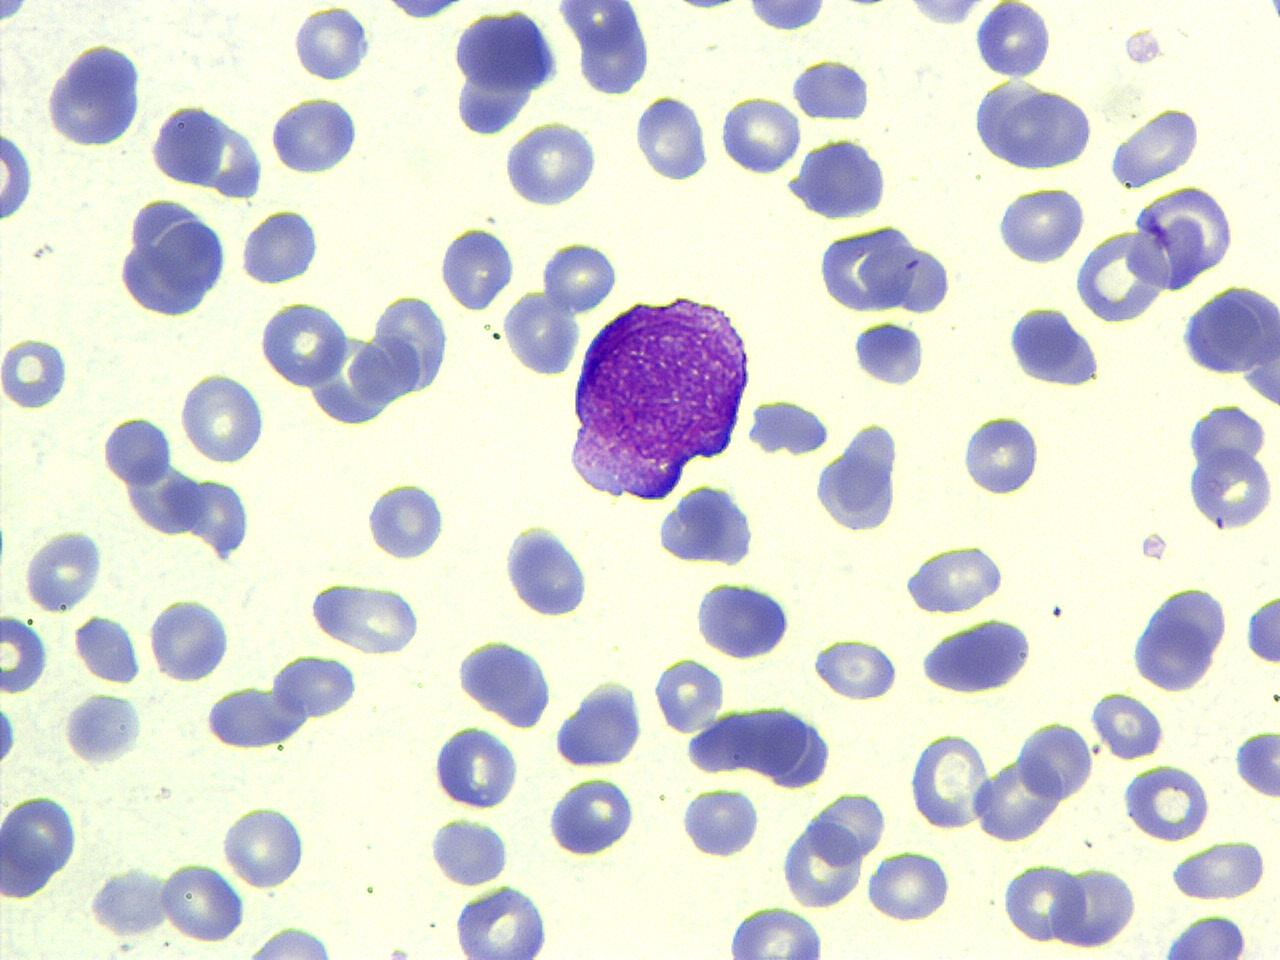Platelets: (20, 524, 109, 612), (958, 412, 1043, 498), (365, 480, 448, 562), (290, 5, 374, 84), (63, 690, 144, 768), (974, 3, 1054, 80), (428, 814, 512, 887), (0, 334, 74, 412), (71, 614, 145, 686), (850, 320, 926, 390), (744, 396, 830, 457), (1242, 588, 1280, 674), (1234, 726, 1278, 800), (0, 703, 18, 769), (385, 942, 416, 960), (1262, 0, 1280, 24)
RBC: (1181, 407, 1279, 535), (1127, 179, 1237, 290), (1074, 224, 1166, 325), (501, 119, 602, 209), (306, 578, 422, 656), (780, 810, 868, 912), (906, 730, 994, 832), (180, 369, 269, 468), (900, 538, 1008, 618), (995, 88, 1097, 172), (256, 297, 350, 388), (1106, 103, 1204, 189), (544, 772, 638, 860), (974, 751, 1061, 845), (432, 722, 523, 808), (1, 790, 80, 888), (992, 184, 1086, 266), (22, 523, 105, 615), (146, 595, 231, 684), (1118, 762, 1210, 844), (220, 803, 306, 890), (502, 286, 581, 379), (1000, 860, 1085, 946), (958, 411, 1042, 498), (158, 860, 245, 944), (633, 91, 710, 184), (1014, 716, 1097, 802), (366, 476, 446, 564), (864, 846, 954, 924), (1056, 860, 1136, 947), (807, 788, 891, 870), (973, 0, 1053, 83), (720, 94, 800, 176), (678, 783, 762, 861), (1167, 838, 1271, 900), (292, 3, 371, 84), (84, 866, 172, 938), (539, 238, 622, 314), (721, 903, 829, 959), (809, 636, 900, 702), (0, 332, 73, 412), (652, 654, 724, 734), (1088, 688, 1168, 760), (99, 413, 172, 489), (71, 612, 143, 685), (0, 612, 50, 695), (231, 923, 349, 958), (1231, 728, 1279, 802), (0, 128, 34, 223)
WBC: (0, 0, 460, 584), (562, 286, 756, 504), (447, 4, 562, 138), (115, 193, 232, 322), (1181, 399, 1279, 533), (1179, 278, 1280, 405), (780, 785, 890, 897), (1129, 180, 1239, 292), (42, 37, 149, 150), (1126, 582, 1232, 695), (813, 420, 904, 538), (814, 219, 920, 316), (918, 613, 1038, 697), (453, 636, 558, 732), (559, 0, 658, 99), (783, 134, 893, 223), (498, 518, 594, 619), (988, 87, 1099, 174), (550, 674, 647, 772), (1074, 225, 1166, 327), (501, 119, 603, 211), (654, 480, 760, 568), (304, 578, 422, 656), (1004, 301, 1106, 389), (692, 576, 794, 662), (203, 676, 316, 752), (1, 792, 81, 898), (1108, 104, 1204, 191), (256, 297, 347, 388), (544, 772, 636, 862), (266, 93, 363, 178), (452, 882, 552, 960), (900, 543, 1006, 615), (632, 90, 710, 186), (960, 412, 1043, 499), (437, 223, 516, 314), (148, 100, 226, 192), (1016, 717, 1094, 806), (266, 651, 362, 721), (238, 206, 319, 288), (678, 782, 760, 862), (86, 863, 171, 940), (972, 2, 1054, 81), (426, 815, 512, 890), (1167, 839, 1271, 901), (62, 688, 144, 766), (720, 903, 831, 959), (789, 55, 871, 124), (100, 412, 174, 488), (72, 612, 144, 687), (1154, 911, 1254, 959), (231, 922, 349, 959), (1230, 727, 1280, 802), (1243, 584, 1279, 670), (740, 0, 830, 34), (898, 0, 995, 30)
